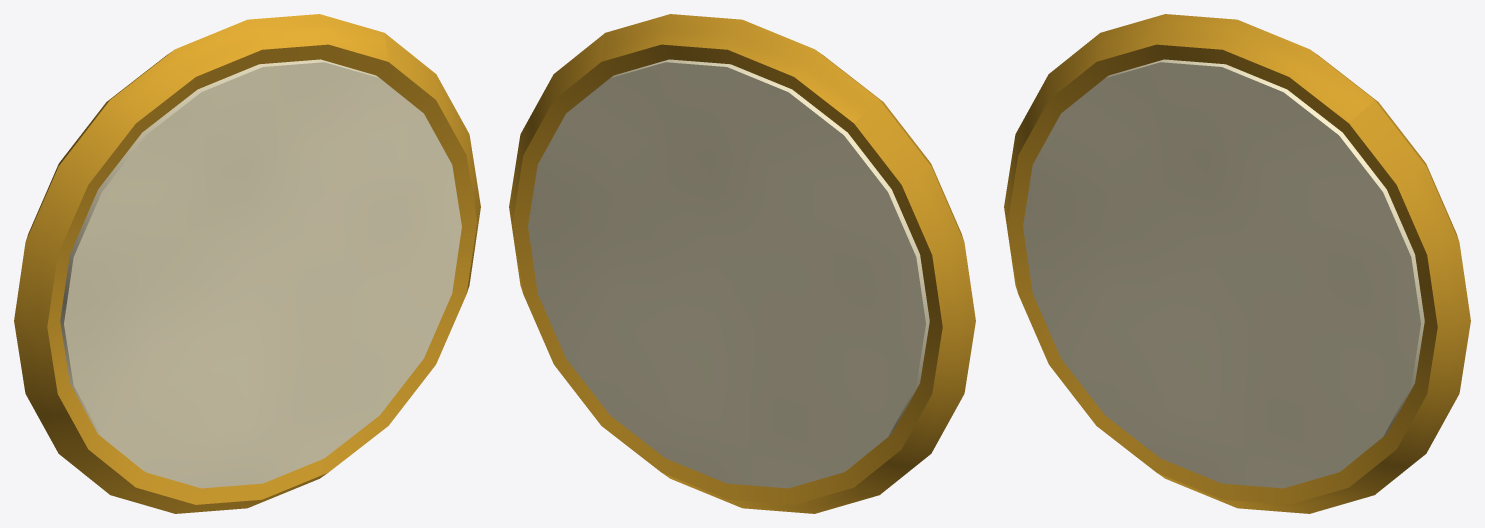
Rendered from pickup_letter.glb.
The picture shows the model from 3 angles, left to right: view 1: azimuth 30°, elevation 25°; view 2: azimuth 150°, elevation 25°; view 3: azimuth 330°, elevation 25°; orthographic projection.
Parts seen in each view (by area): view 1: pickup_letter; view 2: pickup_letter; view 3: pickup_letter.
Boxes of the visible parts, bbox=[...] form: pickup_letter: bbox=[14, 14, 480, 513]; pickup_letter: bbox=[509, 14, 975, 513]; pickup_letter: bbox=[1004, 14, 1470, 513].
Bounding box in the file's own units: 0.61 × 0.61 × 0.07.
1 material, 1 textured.
